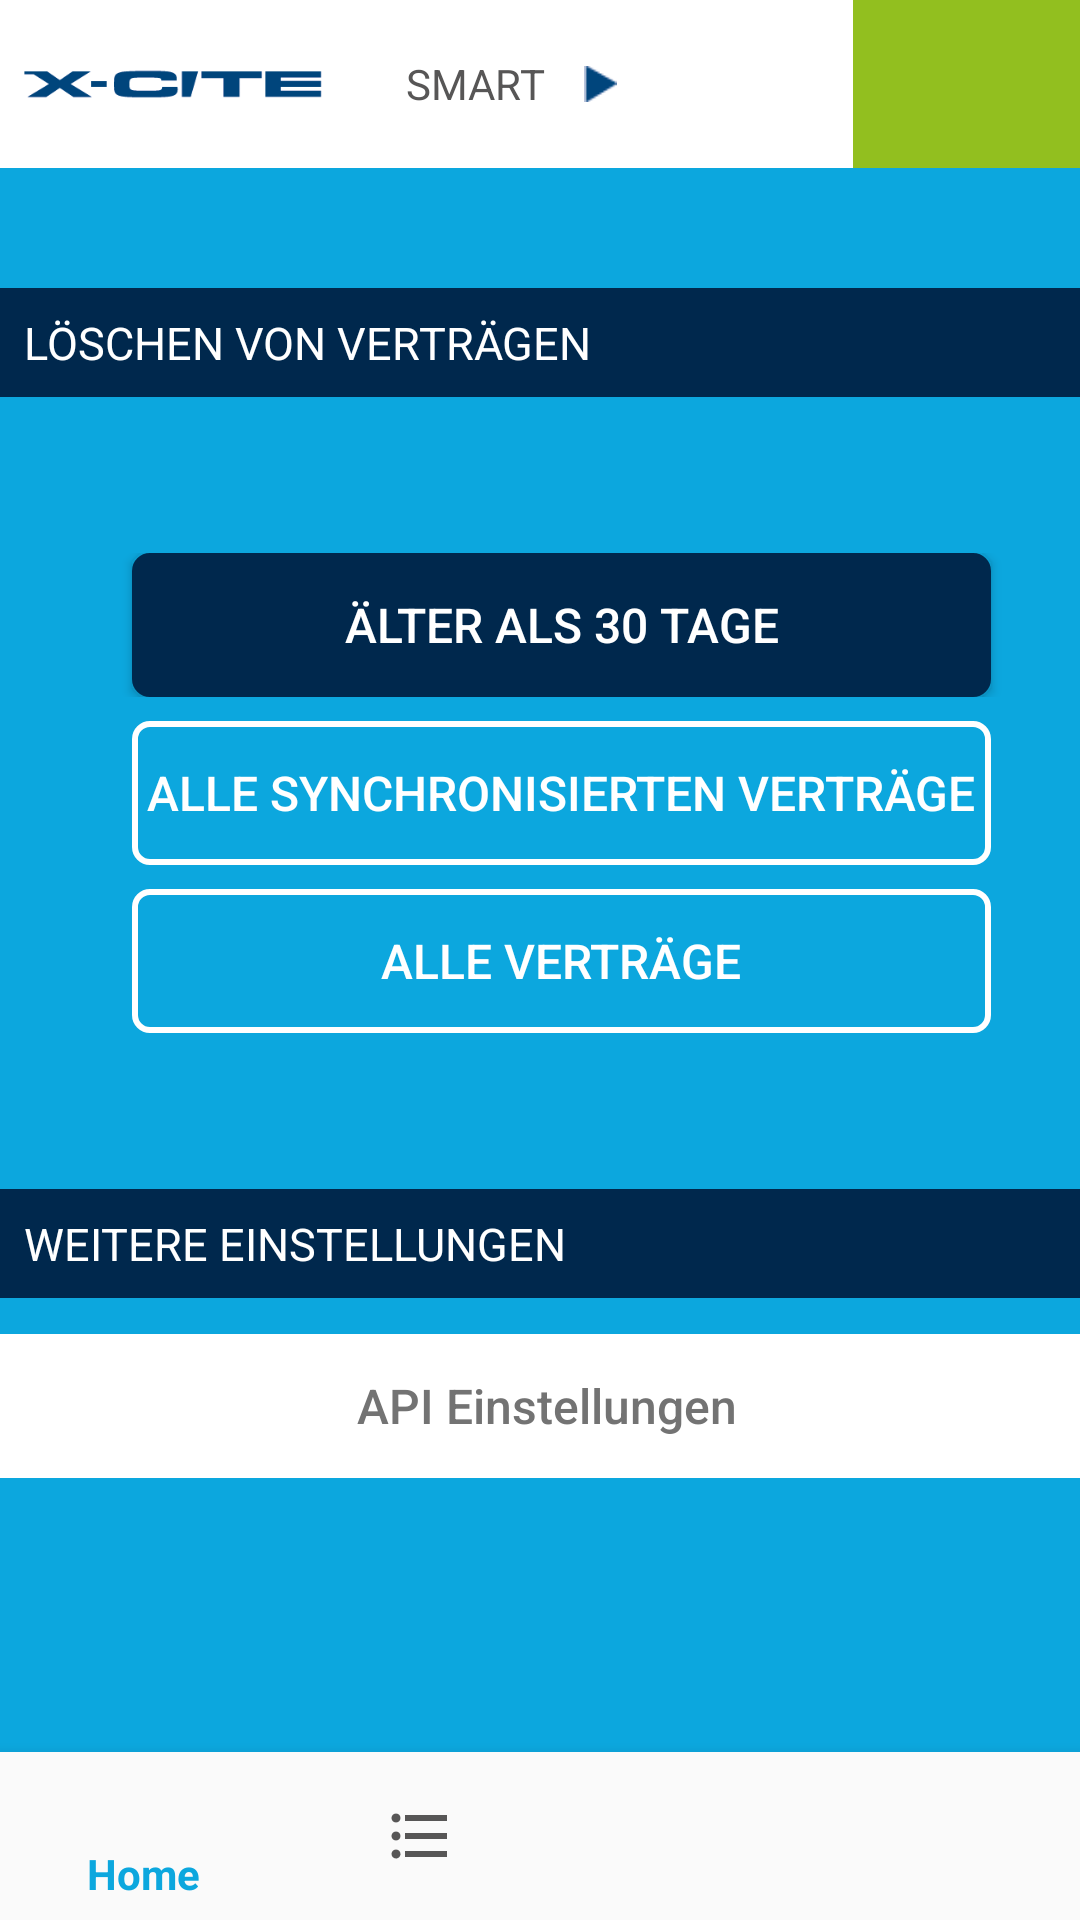

Icons on this 1080px×1920px Android screen, each with its box as BBox(x1, y1, x2, y2):
arrow: BBox(584, 66, 617, 102)
